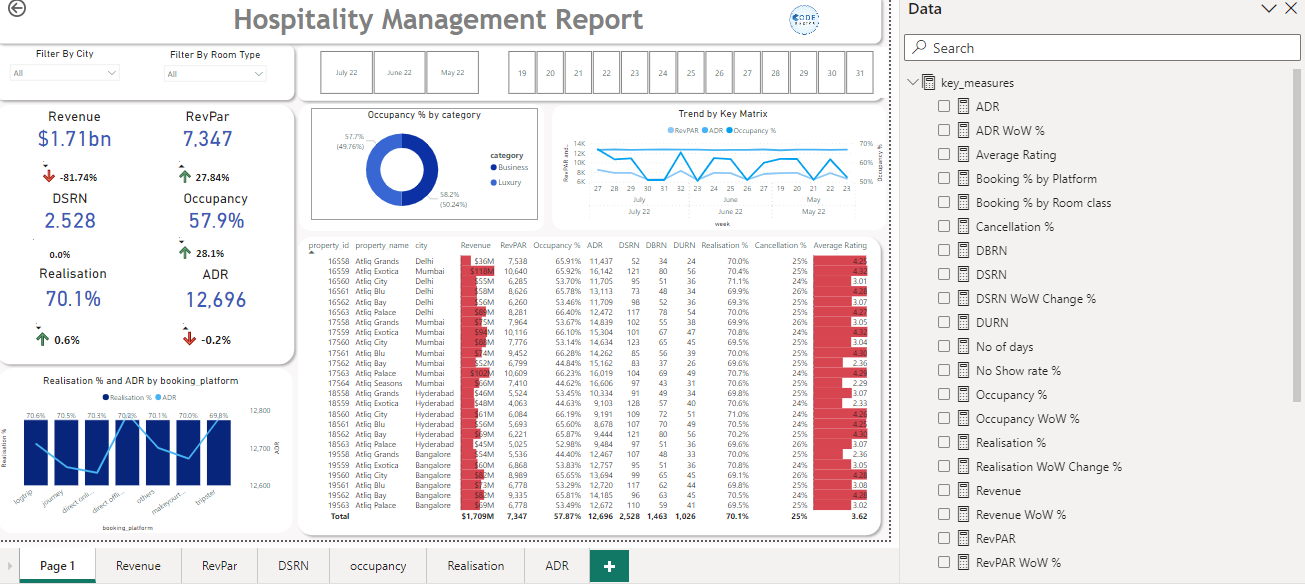

The page's visual inventory and layout, read from the dashboard file:
{"tool":"powerbi","page":{"name":"Page 1","canvas":[1500,920],"ordinal":0},"visuals":[{"type":"shape","box":[505,83.3,995,111.7],"z":0},{"type":"shape","box":[0,83.1,516.6,111.3],"z":2000},{"type":"slicer","title":"Filter By City","fields":{"Values":["dim_hotels.city"]},"box":[23.3,96.3,202.7,84.7],"z":3000},{"type":"slicer","title":"Filter By Room Type","fields":{"Values":["dim_rooms.room_class"]},"box":[280.7,98,191,84.7],"z":4000},{"type":"slicer","fields":{"Values":["dim_date.mmm yy"]},"box":[526.6,96.3,314,84.7],"z":5000},{"type":"slicer","fields":{"Values":["dim_date.week"]},"box":[840.5,96.3,659.5,84.7],"z":6000},{"type":"shape","box":[516.7,191.7,410,211.7],"z":7000},{"type":"donutChart","fields":{"Category":["dim_hotels.category"],"Y":["key_measures.Occupancy %"]},"box":[536.7,198.3,378.3,186.7],"z":8000},{"type":"shape","box":[505,403.7,991.7,516.6],"z":9000},{"type":"tableEx","fields":{"Values":["dim_hotels.property_id","dim_hotels.property_name","dim_hotels.city","key_measures.Revenue","key_measures.RevPAR","key_measures.Occupancy %","key_measures.ADR","key_measures.DSRN","key_measures.DBRN","key_measures.DURN","key_measures.Realisation %","key_measures.Cancellation %"]},"box":[521.7,413.3,960,480],"z":10000},{"type":"shape","box":[0,184.4,516.6,451.8],"z":11000},{"type":"card","title":"Revenue","fields":{"Values":["key_measures.Revenue"]},"box":[23.3,198.3,235,70],"z":12000},{"type":"card","title":"Occupancy","fields":{"Values":["key_measures.Occupancy %"]},"box":[263.3,335,226.7,68.3],"z":13000},{"type":"card","title":"RevPar","fields":{"Values":["key_measures.RevPAR"]},"box":[258.3,198.3,208.3,70],"z":14000},{"type":"card","title":"ADR","fields":{"Values":["key_measures.ADR"]},"box":[280,463.3,191.7,76.7],"z":15000},{"type":"card","title":"Realisation","fields":{"Values":["key_measures.Realisation %"]},"box":[33.3,460,210,80],"z":16000},{"type":"card","title":"DSRN","fields":{"Values":["key_measures.DSRN"]},"box":[23.3,335,220,68.3],"z":17000},{"type":"tableEx","fields":{"Values":["key_measures.RevPAR WoW %"]},"box":[303.3,268.3,158.3,66.7],"z":18000},{"type":"tableEx","fields":{"Values":["key_measures.Revenue WoW %"]},"box":[76.7,268.3,123.3,66.7],"z":19000},{"type":"tableEx","fields":{"Values":["key_measures.DSRN WoW Change %"]},"box":[60,398.3,155,65],"z":20000},{"type":"tableEx","fields":{"Values":["key_measures.Occupancy WoW %"]},"box":[303.3,395,168.3,65],"z":21000},{"type":"tableEx","fields":{"Values":["key_measures.Realisation WoW Change %"]},"box":[65,540,151.7,70],"z":22000},{"type":"tableEx","fields":{"Values":["key_measures.ADR WoW %"]},"box":[310,540,145,73.3],"z":23000},{"type":"shape","box":[13,633.2,492.1,276.3],"z":24000},{"type":"lineStackedColumnComboChart","fields":{"Y":["key_measures.Realisation %"],"Y2":["key_measures.ADR"],"Category":["fact_bookings.booking_platform"]},"box":[13,642.7,476.7,266.8],"z":25000},{"type":"shape","box":[938.5,194.4,558.1,209.3],"z":26000},{"type":"lineChart","title":"Trend by Key Matrix","fields":{"Category":["dim_date.mmm yy","dim_date.date.Variation.Date Hierarchy.Month","dim_date.week"],"Y":["key_measures.RevPAR","key_measures.ADR"],"Y2":["key_measures.Occupancy %"]},"box":[951.8,197.7,544.9,206],"z":27000},{"type":"shape","box":[0,0,1497.1,99.9],"z":28000},{"type":"image","box":[1252.5,19.9,214.3,63.1],"z":29000},{"type":"actionButton","box":[24.3,11.4,99.9,40],"z":29500}]}

Visuals, with their boxes on the page's 1500x920 design canvas (x1, y1, x2, y2). These are canvas units, not pixel positions in the 1305x584 screenshot, which may show the page scaled, cropped or inside an application window:
shape: [x1=505, y1=83, x2=1500, y2=195]
shape: [x1=0, y1=83, x2=517, y2=194]
"Filter By City" slicer: [x1=23, y1=96, x2=226, y2=181]
"Filter By Room Type" slicer: [x1=281, y1=98, x2=472, y2=183]
slicer - dim_date.mmm yy: [x1=527, y1=96, x2=841, y2=181]
slicer - dim_date.week: [x1=840, y1=96, x2=1500, y2=181]
shape: [x1=517, y1=192, x2=927, y2=403]
donutChart - dim_hotels.category x key_measures.Occupancy %: [x1=537, y1=198, x2=915, y2=385]
shape: [x1=505, y1=404, x2=1497, y2=920]
tableEx - dim_hotels.property_id x dim_hotels.property_name: [x1=522, y1=413, x2=1482, y2=893]
shape: [x1=0, y1=184, x2=517, y2=636]
"Revenue" card: [x1=23, y1=198, x2=258, y2=268]
"Occupancy" card: [x1=263, y1=335, x2=490, y2=403]
"RevPar" card: [x1=258, y1=198, x2=467, y2=268]
"ADR" card: [x1=280, y1=463, x2=472, y2=540]
"Realisation" card: [x1=33, y1=460, x2=243, y2=540]
"DSRN" card: [x1=23, y1=335, x2=243, y2=403]
tableEx - key_measures.RevPAR WoW %: [x1=303, y1=268, x2=462, y2=335]
tableEx - key_measures.Revenue WoW %: [x1=77, y1=268, x2=200, y2=335]
tableEx - key_measures.DSRN WoW Change %: [x1=60, y1=398, x2=215, y2=463]
tableEx - key_measures.Occupancy WoW %: [x1=303, y1=395, x2=472, y2=460]
tableEx - key_measures.Realisation WoW Change %: [x1=65, y1=540, x2=217, y2=610]
tableEx - key_measures.ADR WoW %: [x1=310, y1=540, x2=455, y2=613]
shape: [x1=13, y1=633, x2=505, y2=910]
lineStackedColumnComboChart - key_measures.Realisation % x key_measures.ADR: [x1=13, y1=643, x2=490, y2=910]
shape: [x1=938, y1=194, x2=1497, y2=404]
"Trend by Key Matrix" lineChart: [x1=952, y1=198, x2=1497, y2=404]
shape: [x1=0, y1=0, x2=1497, y2=100]
image: [x1=1252, y1=20, x2=1467, y2=83]
actionButton: [x1=24, y1=11, x2=124, y2=51]
